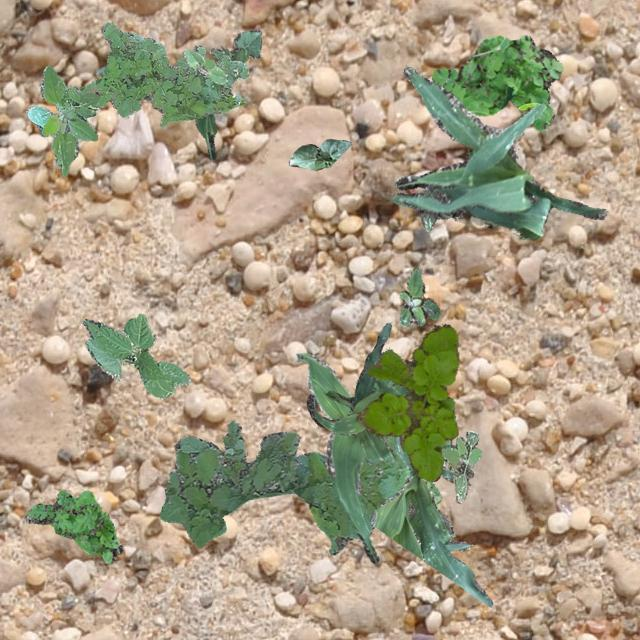crop: (390, 64, 604, 238), (368, 434, 492, 606), (294, 352, 378, 562), (95, 46, 227, 160), (306, 322, 408, 464), (81, 312, 190, 398), (24, 64, 100, 176), (288, 138, 350, 170), (208, 29, 260, 64), (182, 48, 226, 82), (370, 378, 394, 390)
weed: (160, 420, 452, 554), (71, 22, 248, 126), (356, 322, 456, 480), (431, 34, 562, 130), (23, 490, 122, 562), (440, 430, 480, 502), (398, 266, 438, 326), (420, 213, 436, 230)
